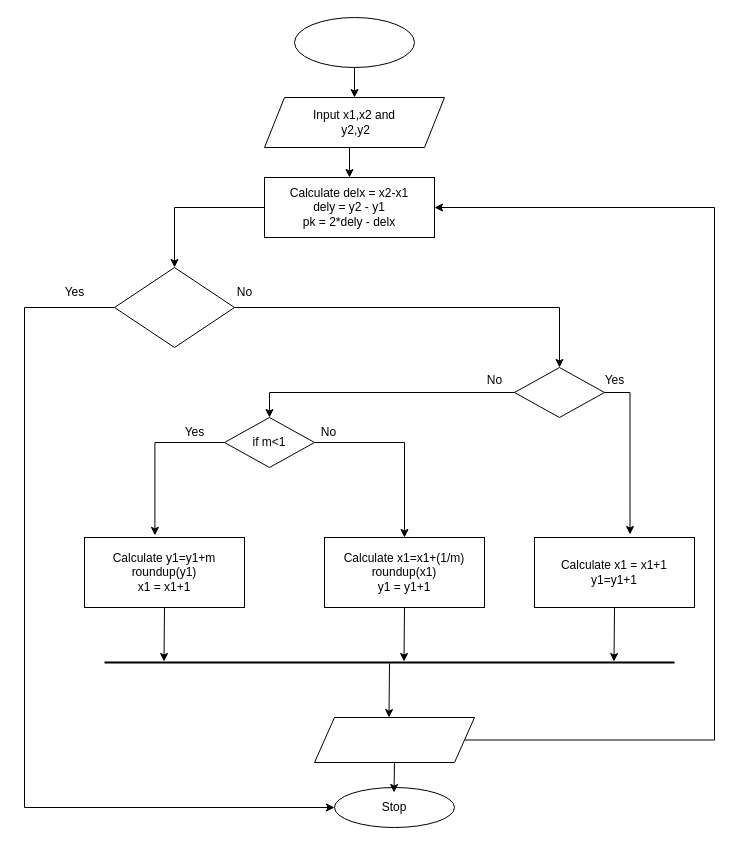
Some shapes in this 740 by 845 pixel diagram are drawn without their labels. Each missing label, with the centre of its shape:
if m=0: the point at 559,392
if x1 = x2 and y1 = y2: the point at 174,307
Print x1 and y1: the point at 394,739
Start: the point at 354,42
